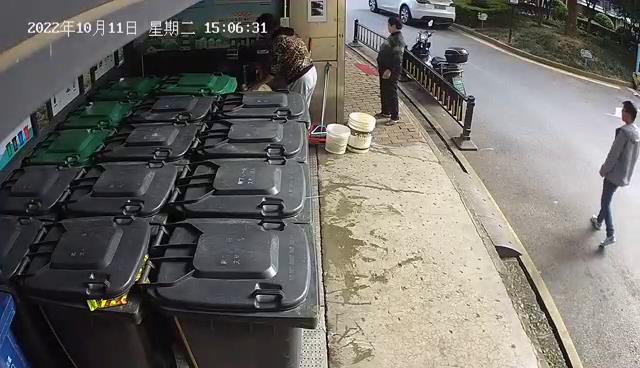person: (243, 11, 322, 114), (588, 98, 640, 251), (371, 14, 409, 125)
